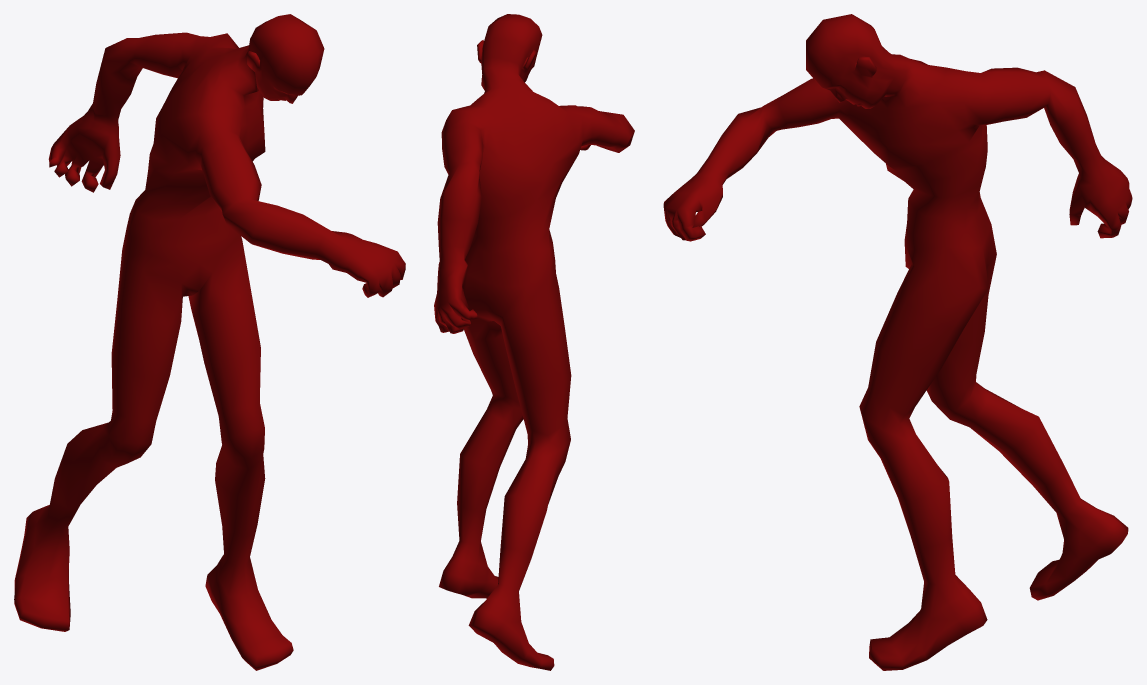
The model's file is attack_4.obj.
3 views of the same model, side by side, from view 1: azimuth 30°, elevation 25°; view 2: azimuth 150°, elevation 25°; view 3: azimuth 270°, elevation 25° (orthographic). The views are drawn at different scales.
Parts seen in each view (by area): view 1: Low_Poly_Characte.000_Mesh.001; view 2: Low_Poly_Characte.000_Mesh.001; view 3: Low_Poly_Characte.000_Mesh.001.
Boxes of the visible parts, x1=… form: Low_Poly_Characte.000_Mesh.001: x1=14, y1=14, x2=405, y2=670; Low_Poly_Characte.000_Mesh.001: x1=434, y1=14, x2=634, y2=670; Low_Poly_Characte.000_Mesh.001: x1=663, y1=14, x2=1132, y2=670.
Bounding box in the file's own units: 0.928 × 2.93 × 1.94.
